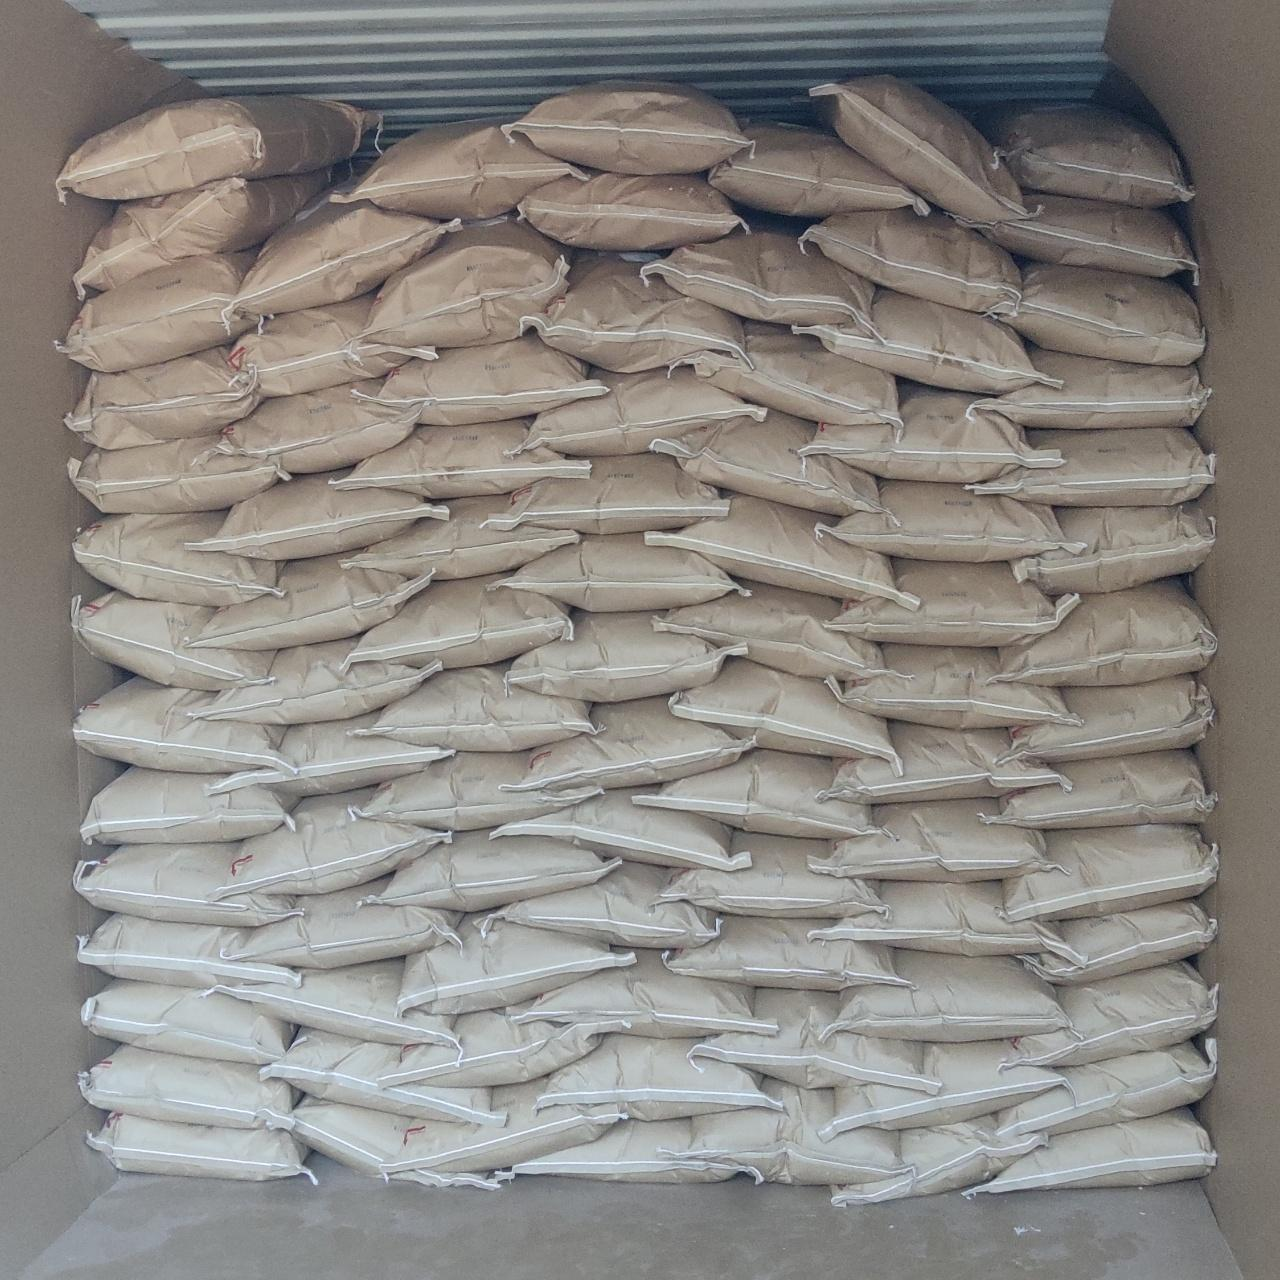sack: (57, 96, 382, 200), (74, 171, 328, 299), (644, 495, 920, 611), (812, 76, 1027, 225), (792, 290, 1058, 393), (668, 659, 901, 776), (234, 196, 461, 316), (649, 410, 892, 519), (522, 259, 753, 373), (365, 220, 568, 348), (689, 990, 939, 1095), (206, 792, 451, 898), (662, 1080, 903, 1185), (182, 552, 437, 651), (641, 232, 879, 338), (819, 1040, 1068, 1141), (332, 122, 587, 219), (397, 912, 635, 1015), (815, 946, 1069, 1042), (697, 321, 903, 440), (55, 251, 256, 372), (797, 392, 1061, 483), (501, 696, 753, 791), (506, 949, 775, 1039), (998, 577, 1216, 686), (1000, 961, 1218, 1069), (801, 207, 1021, 314), (263, 1028, 506, 1124), (219, 874, 465, 968), (505, 368, 765, 456), (350, 336, 607, 425), (501, 83, 754, 173), (387, 1080, 629, 1173), (186, 471, 448, 558), (825, 557, 1080, 646), (962, 1107, 1216, 1196), (996, 1036, 1216, 1138), (213, 959, 458, 1049), (653, 583, 883, 679), (979, 104, 1192, 207), (631, 749, 873, 839), (506, 611, 744, 702), (73, 676, 293, 775), (825, 644, 1081, 728), (817, 481, 1083, 561), (186, 641, 441, 726), (808, 881, 1081, 960), (353, 665, 595, 753), (229, 295, 437, 397), (342, 576, 572, 668), (362, 829, 621, 911), (204, 376, 418, 475), (328, 496, 581, 579), (1000, 263, 1204, 366), (1002, 824, 1218, 921), (535, 1035, 779, 1121), (206, 712, 454, 796), (490, 790, 748, 871), (818, 721, 1070, 803), (333, 418, 588, 499), (709, 124, 930, 218), (474, 863, 717, 947), (72, 591, 277, 690), (481, 452, 729, 535), (490, 533, 749, 612), (72, 511, 284, 606), (651, 832, 885, 918), (995, 674, 1214, 765), (66, 347, 261, 449), (806, 799, 1049, 881), (965, 427, 1214, 506), (292, 1099, 513, 1189), (967, 347, 1210, 428), (72, 842, 299, 926), (971, 193, 1197, 277), (360, 753, 602, 830), (832, 1116, 1046, 1203), (982, 750, 1217, 829), (1017, 502, 1216, 593), (81, 1046, 295, 1130), (663, 917, 908, 990), (82, 981, 294, 1064), (519, 173, 750, 248), (1010, 900, 1216, 983), (77, 914, 300, 990), (495, 1119, 762, 1183), (377, 1012, 599, 1088), (69, 437, 290, 513), (80, 767, 298, 843), (87, 1114, 308, 1179)
